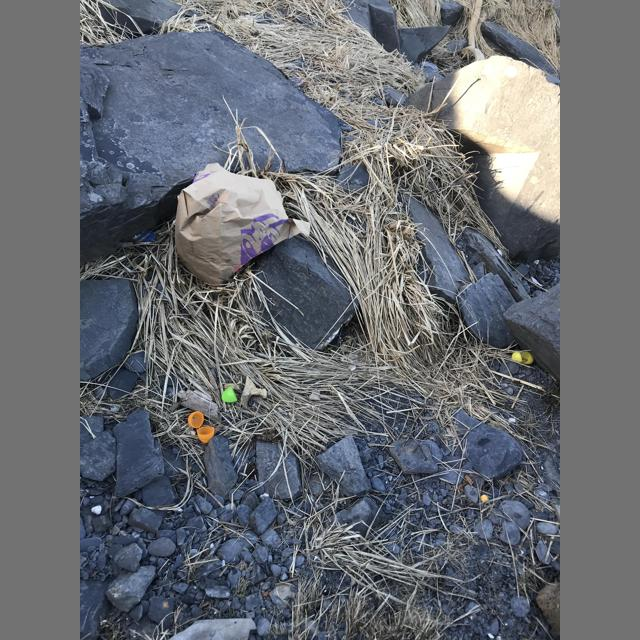litter: (175, 163, 311, 287), (197, 426, 214, 443), (133, 230, 156, 242), (188, 411, 204, 428), (221, 386, 237, 402), (521, 352, 534, 364), (512, 352, 522, 363), (481, 494, 487, 502)
